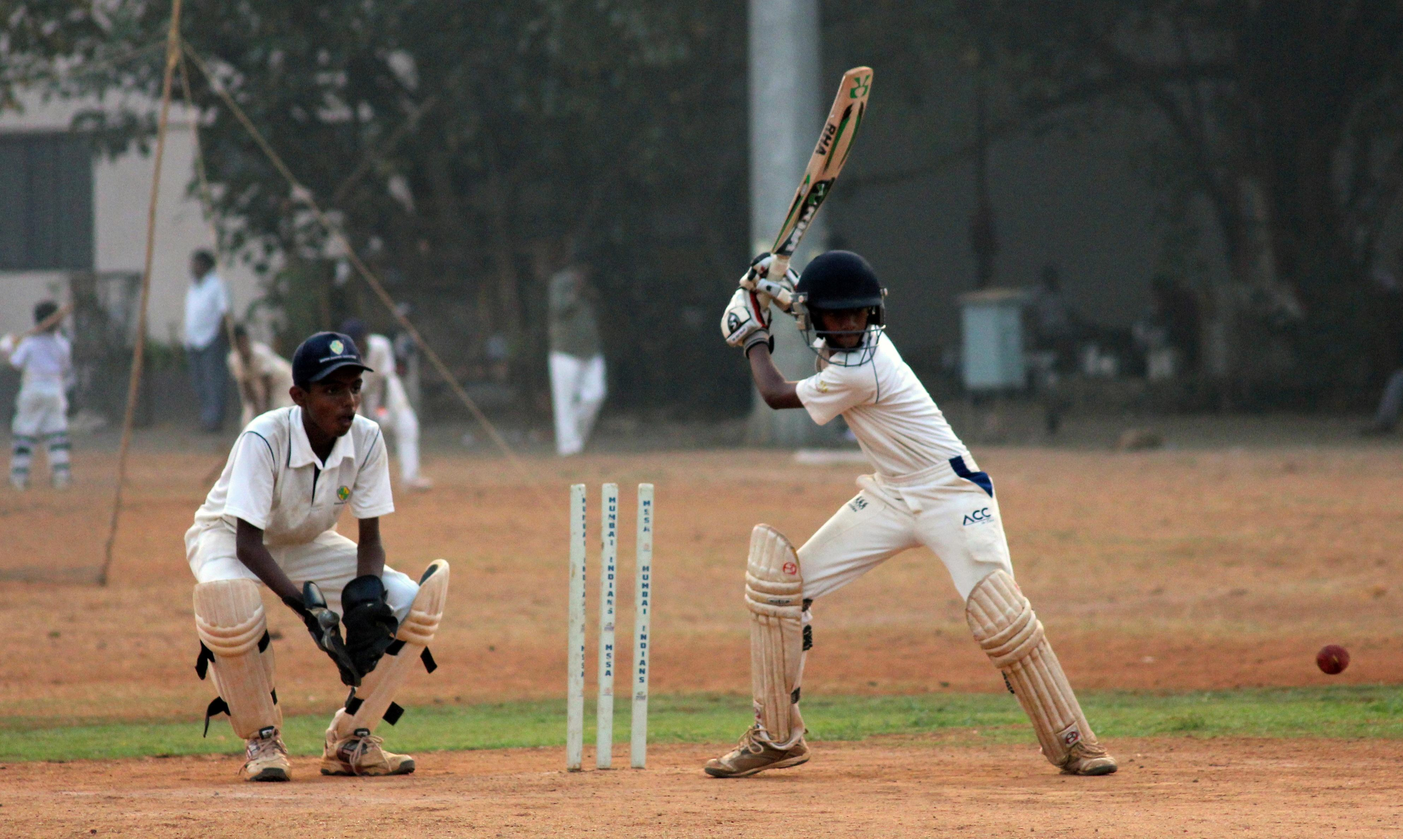batsman: (707, 65, 1125, 778)
